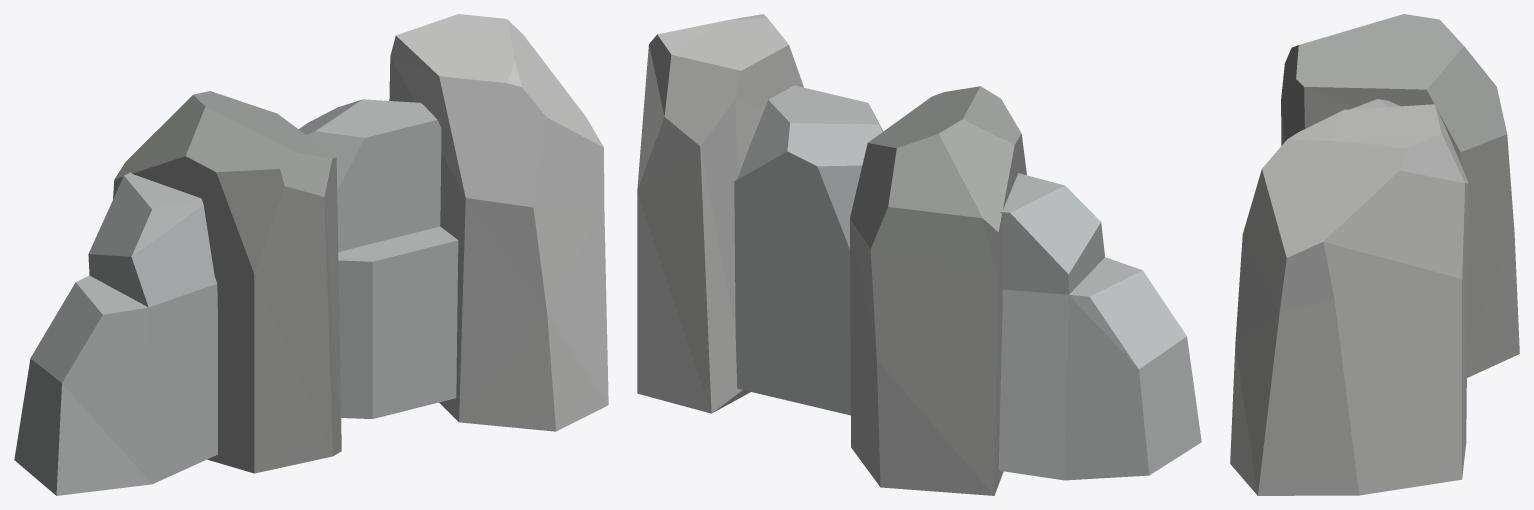
Rendered from Rock_Wall_02.fbx.
3 views of the same model, side by side, from view 1: azimuth 30°, elevation 25°; view 2: azimuth 150°, elevation 25°; view 3: azimuth 270°, elevation 25° (orthographic).
Visible parts, largest first — view 1: Rock_Wall_02; view 2: Rock_Wall_02; view 3: Rock_Wall_02.
Part boxes in pixels (<box>): Rock_Wall_02: <box>14,14,608,495</box>; Rock_Wall_02: <box>637,14,1201,495</box>; Rock_Wall_02: <box>1230,14,1519,495</box>.
Bounding box in the file's own units: 6.01 × 3.69 × 2.85.
